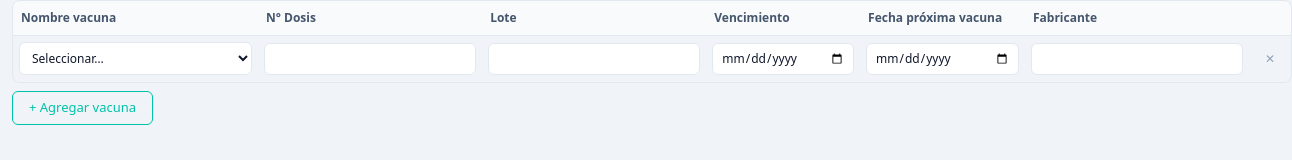
Scenario: VaccineTable columnas de fecha › escribe la fecha calculada en ISO, que es lo que acepta el calendario
Select "HEPATITIS B D1" in the dropdown named "Nombre vacuna, fila 1": (136, 58) [19,42,252,75]
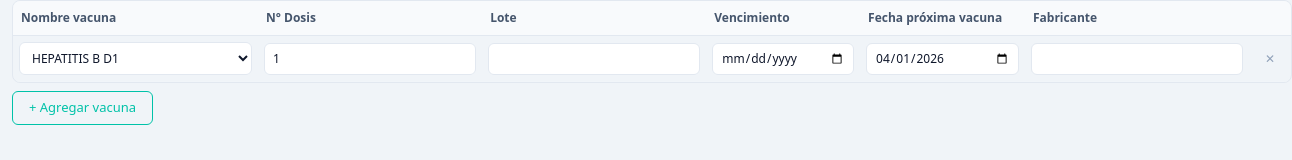
Now the date field named "Fecha próxima vacuna, fila 1" holds "2026-04-01", box [866,42,1019,74]
